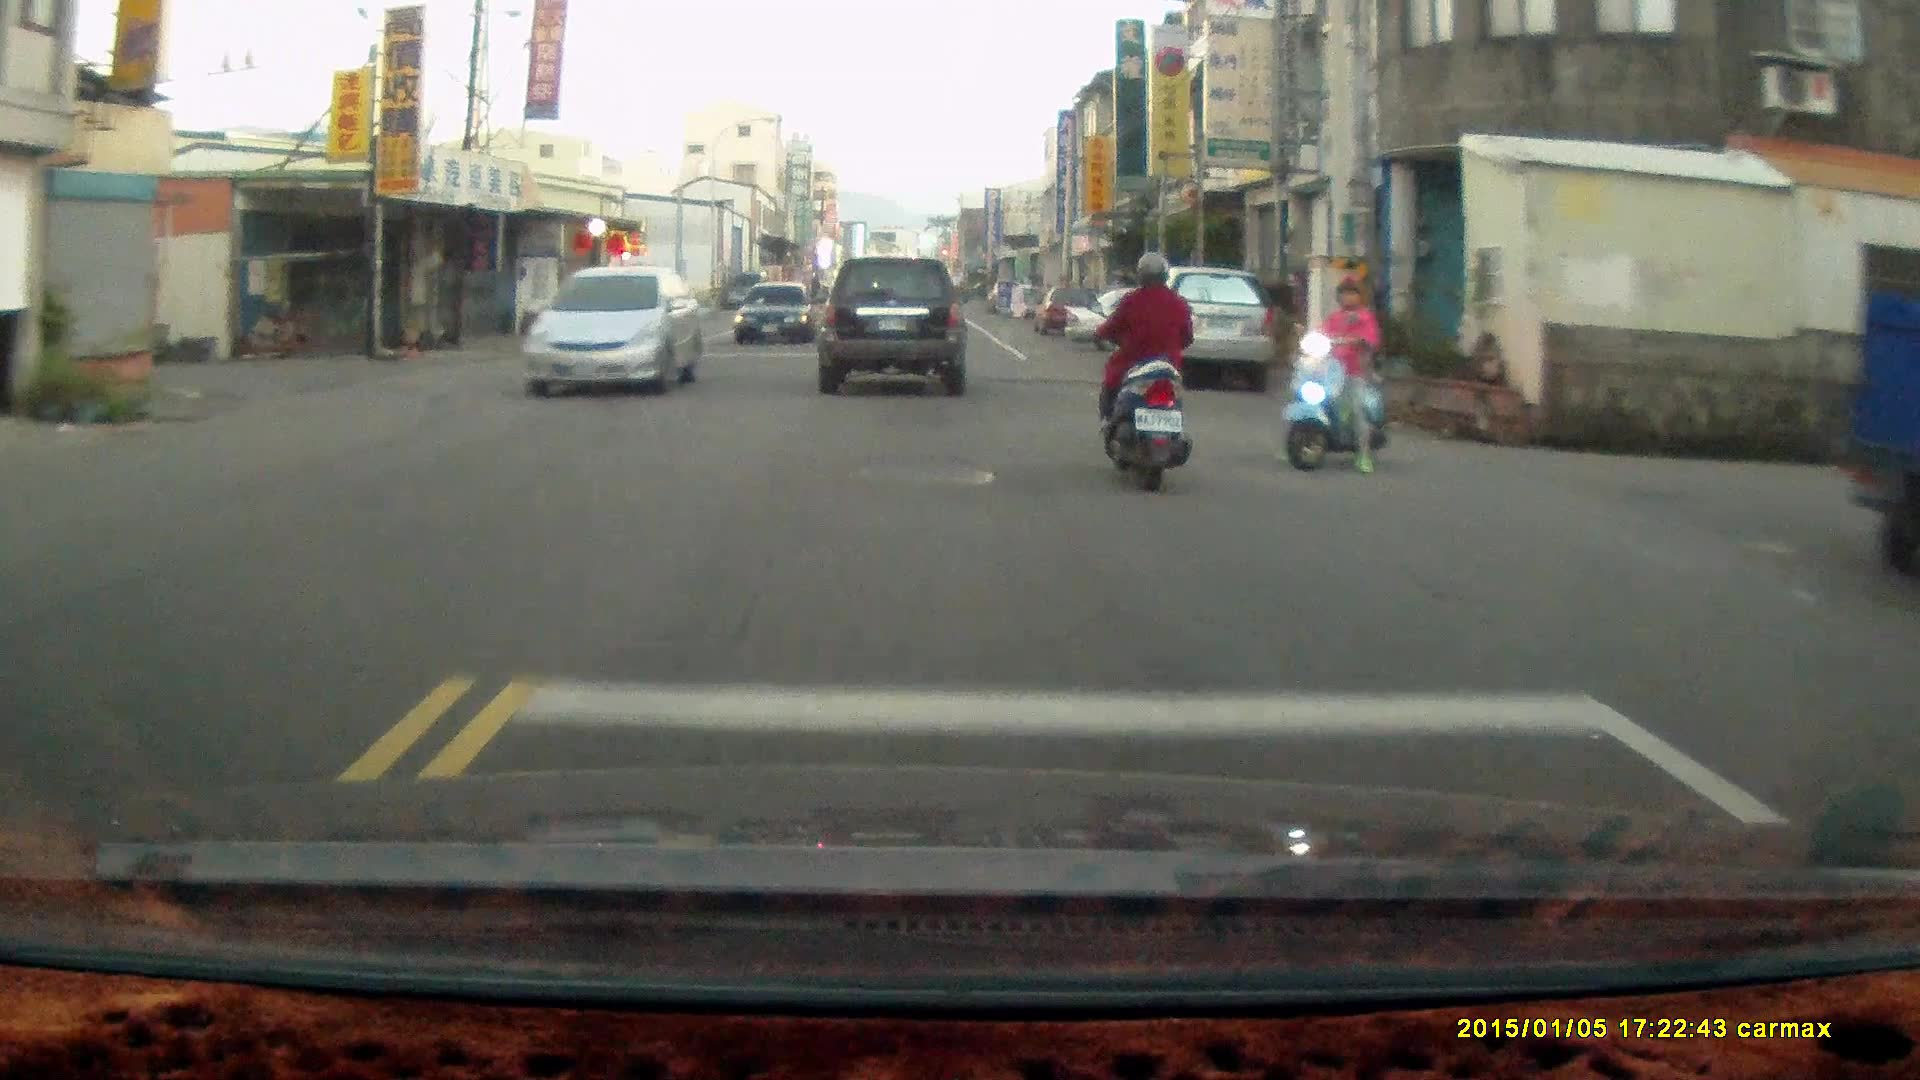rider: (1275, 270, 1391, 475), (1098, 251, 1192, 499)
vehicle: (523, 266, 704, 399), (817, 256, 968, 401), (1117, 268, 1279, 392), (738, 283, 818, 349)
